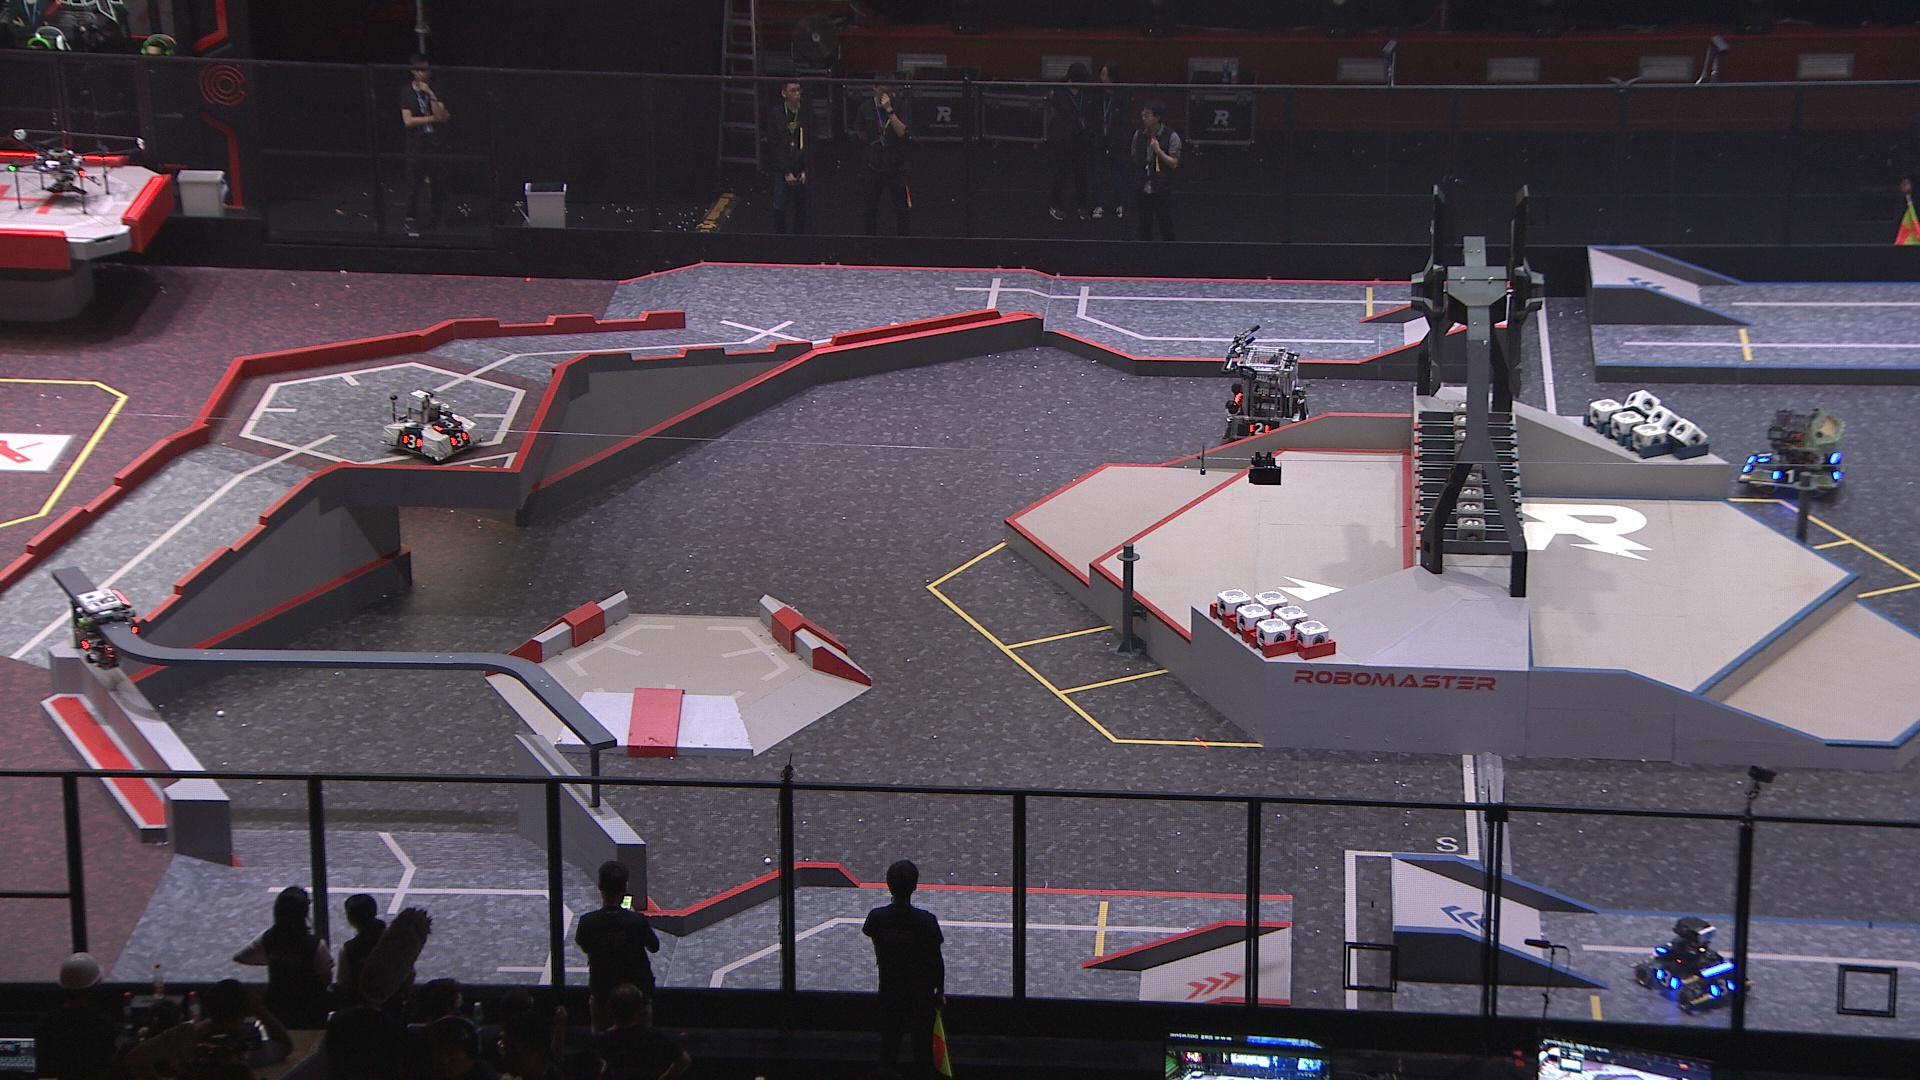armor: (1652, 963, 1683, 992), (65, 626, 92, 654), (1706, 975, 1737, 1000), (430, 411, 462, 433), (1770, 465, 1803, 485), (400, 431, 423, 452), (448, 429, 471, 450), (1247, 422, 1273, 440), (1754, 447, 1774, 465)
car: (1633, 911, 1755, 1014), (1738, 401, 1850, 501), (1226, 342, 1315, 448), (378, 382, 485, 462)
watcher: (65, 585, 138, 673)
